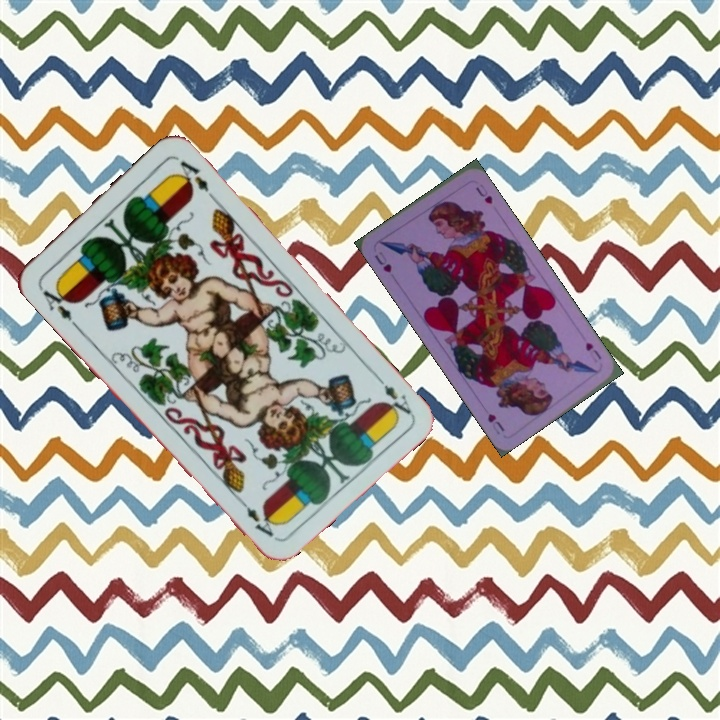EA: (370, 369, 414, 421), (34, 280, 79, 329)
HU: (370, 248, 394, 275), (581, 338, 604, 362)
